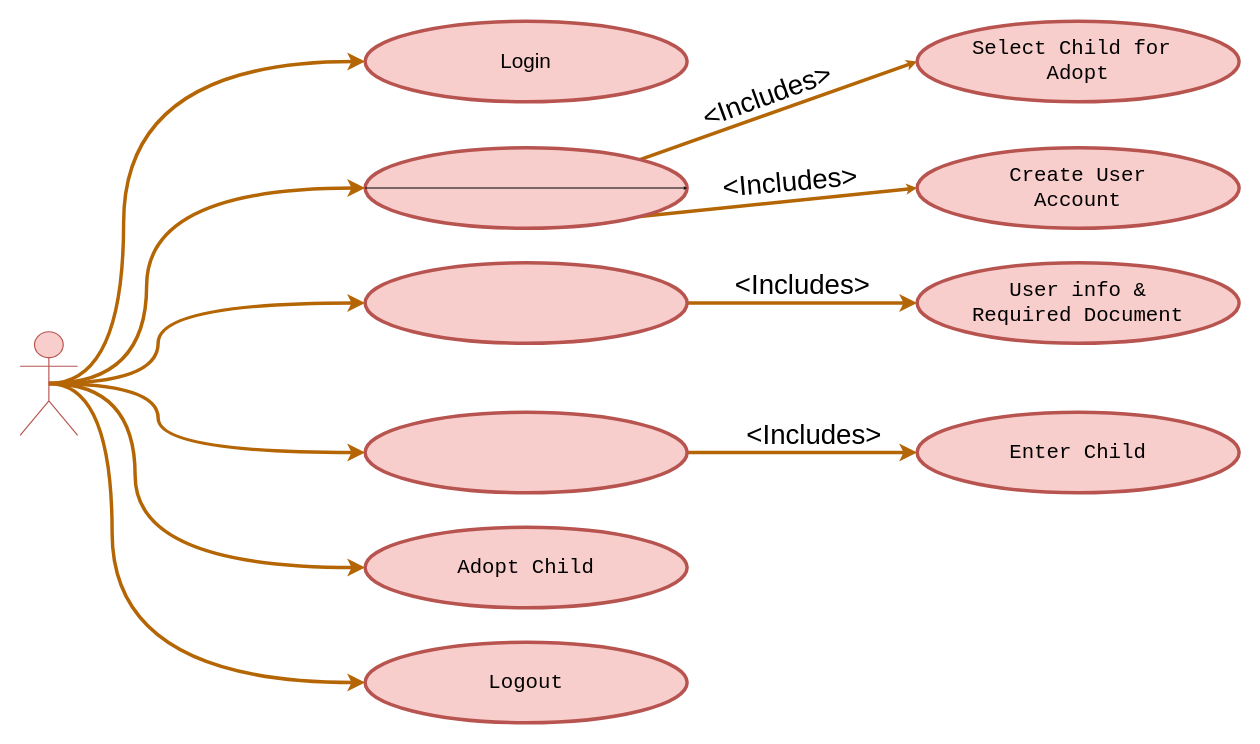
Image size: 1260x744. Some labels were removed from this diagram. The centre of each missing label's shape, as x and y in pixels:
"Fill application if not registered" belongs at (x=525, y=187).
"Make an Inquiry" belongs at (x=525, y=452).
"Submit Application" belongs at (x=525, y=302).
"User" belongs at (x=48, y=383).
